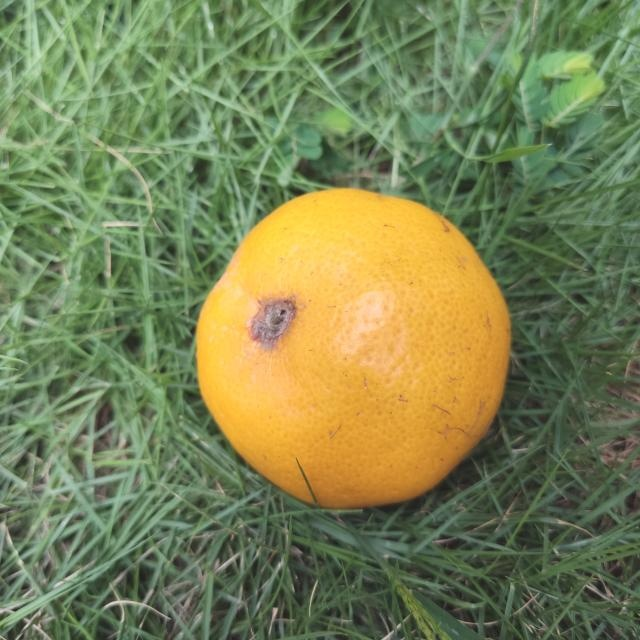agrume: (189, 183, 514, 517)
